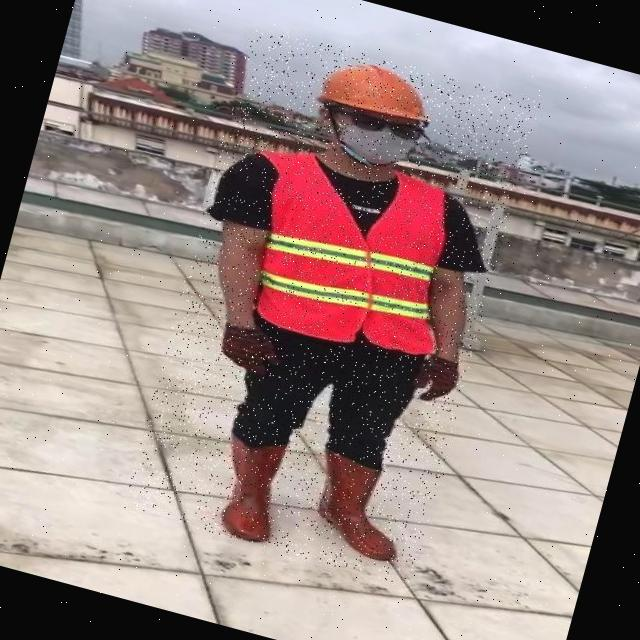boots: (300, 446, 418, 564), (205, 428, 292, 544)
helmet: (308, 46, 447, 136)
vest: (240, 147, 468, 362)
